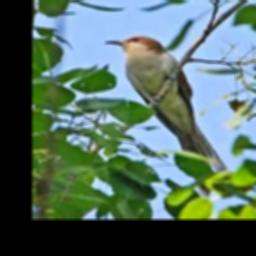Cuckoo: (104, 35, 228, 194)
